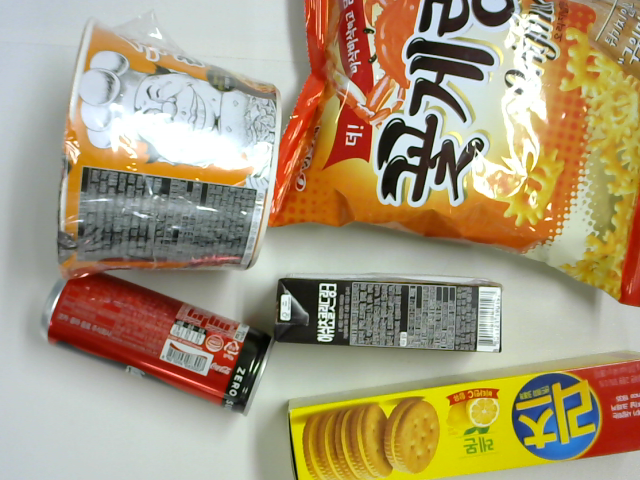Coca_Cola_Zero_Can_250ml: (41, 263, 275, 419)
Crabrang: (266, 1, 640, 308)
Hejangchan: (58, 20, 282, 285)
Hush_Choco_Drink: (275, 272, 503, 353)
Ritz_Remon_96g: (286, 350, 640, 479)
